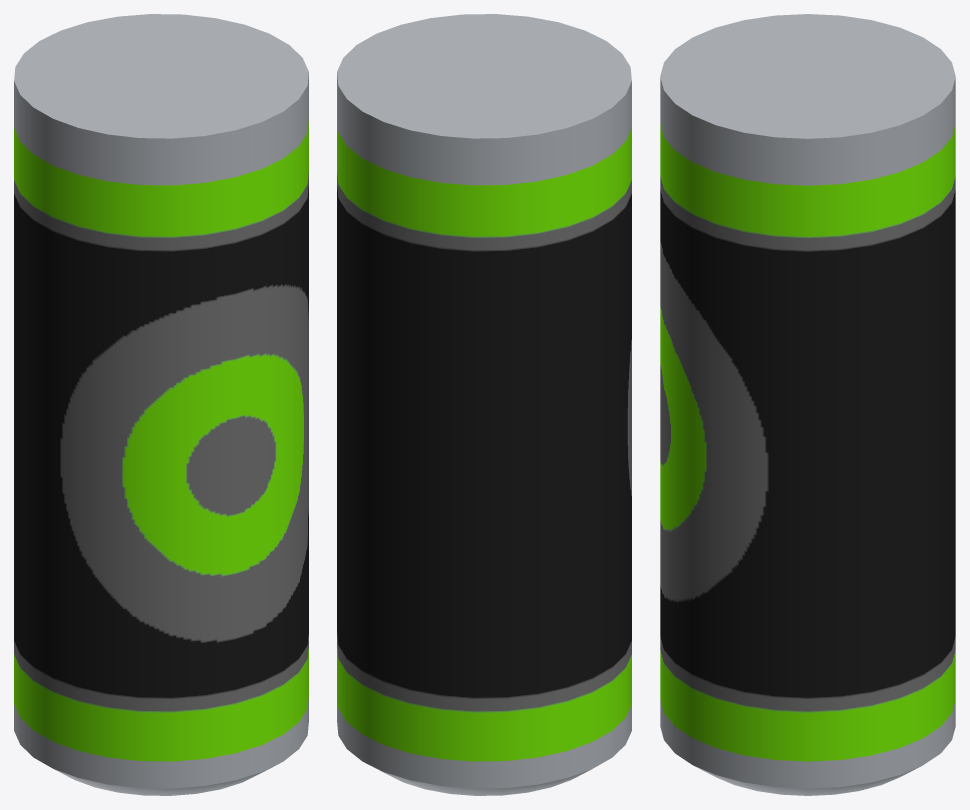
Rendered from Energy_Drink.fbx.
The picture shows the model from 3 angles, left to right: view 1: azimuth 30°, elevation 25°; view 2: azimuth 150°, elevation 25°; view 3: azimuth 270°, elevation 25°; orthographic projection.
Visible parts, largest first — view 1: Energy_Drink; view 2: Energy_Drink; view 3: Energy_Drink.
Boxes of the visible parts, left/top/right/bottom form: Energy_Drink: left=14, top=14, right=308, bottom=795; Energy_Drink: left=337, top=14, right=631, bottom=795; Energy_Drink: left=660, top=14, right=955, bottom=795.
Bounding box in the file's own units: 0.054 × 0.135 × 0.054.
2 materials, 1 textured.
